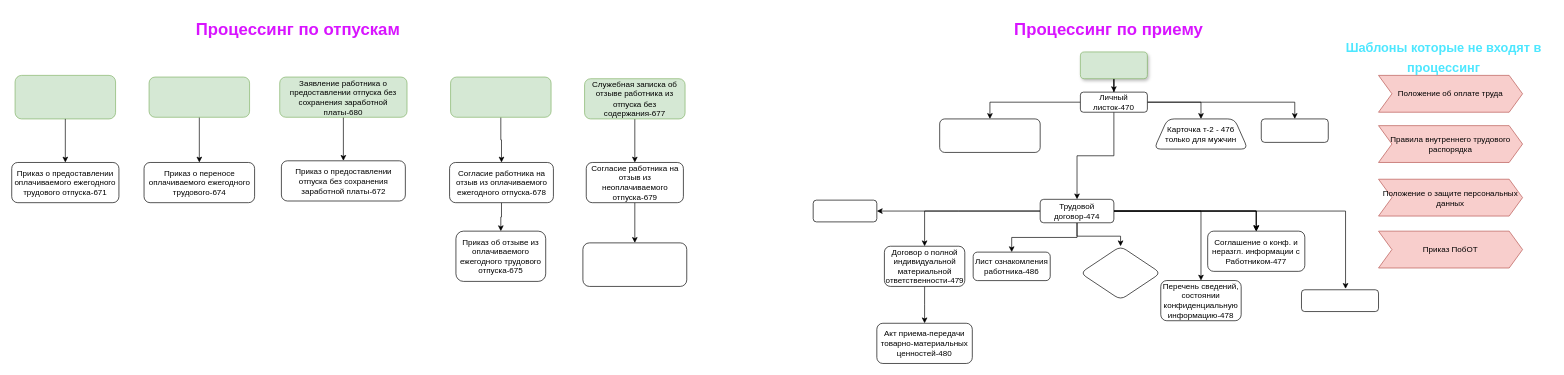
Some shapes in this 1564 by 375 pixel diagram are drawn without their labels. The shapes that lost their labels are listed below. From the top down, each one's centre as x and y in pixels, then its label:
At (1114,66): "Анкета по учету кадров-469".
At (65,97): "Заявление работника о предоставлении оплачиваемого отпуска-670".
At (199,96): "Заявление работника о переносе оплачиваемого ежегодного-673".
At (500,96): "Служебная записка об отзыве работника из оплачиваемого отпуска-676".
At (989,135): "Согласие на Сбор, Обработку Персональных данных-472".
At (1294,130): "Заявление на работу- 471".
At (845,210): "Приказ-475".
At (634,264): "Приказ об отзыве из неоплачиваемого отпуска-672".
At (1120,273): "ДИ- с 487 по 491".
At (1340,300): "Договор о неконкуренции-485".
